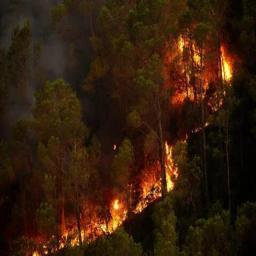Low smoke: (0, 1, 74, 119)
Medium fire: (27, 142, 183, 256), (160, 36, 240, 141)
